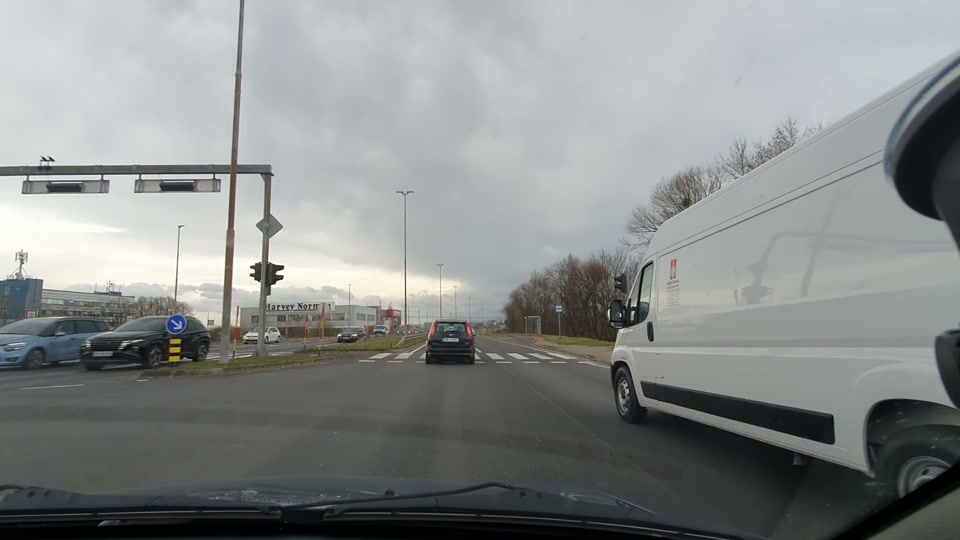vehicle_ign: (611, 103, 960, 488), (5, 312, 109, 373), (421, 310, 480, 374)
vehicle_s: (80, 308, 217, 376)
